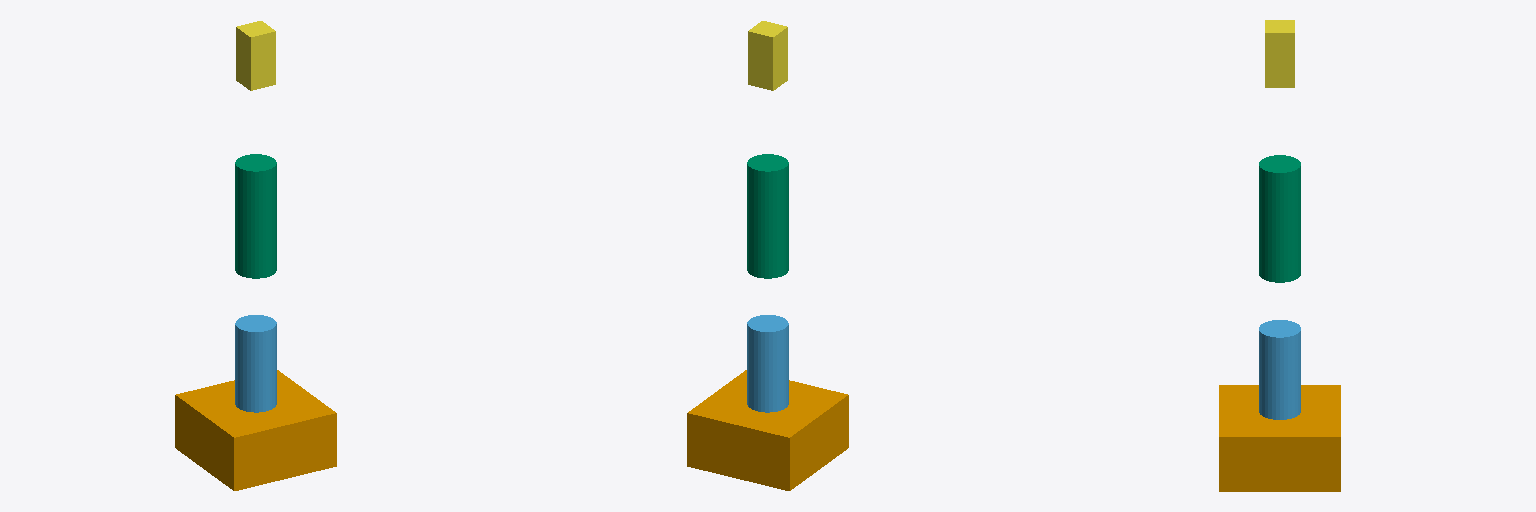
The robot description file, URDF, robot "SimpleRobotArm_ArticulatedBody":
<?xml version="1.0"?>
<robot name="SimpleRobotArm_ArticulatedBody">
    <link name="base">
        <visual >
            <origin xyz="0.0 -0.0 0.0" rpy="0.0 0.0 0.0" />
            <geometry >
                <box size="0.2 0.2 0.1" />
            </geometry>
        </visual>
        <visual >
            <origin xyz="0.0 -0.0 0.1" rpy="0.0 0.0 0.0" />
            <geometry >
                <sphere radius="0.025" />
            </geometry>
        </visual>
        <visual >
            <origin xyz="0.0 -0.0 0.4" rpy="0.0 0.0 0.0" />
            <geometry >
                <sphere radius="0.0249999985" />
            </geometry>
        </visual>
        <visual >
            <origin xyz="0.0 -0.0 0.700000048" rpy="0.0 0.0 0.0" />
            <geometry >
                <sphere radius="0.0249999985" />
            </geometry>
        </visual>
    </link>
    <link name="shoulder">
        <visual >
            <origin xyz="0.0 -0.0 0.0" rpy="0.0 0.0 0.0" />
            <geometry >
                <cylinder radius="0.035" length="0.2" />
            </geometry>
        </visual>
    </link>
    <joint name="joint.articulated_body.revolutejoint_from_shoulder" type="continuous">
        <parent link="base" />
        <child link="shoulder" />
        <origin xyz="0.0 -0.0 0.0999999642" rpy="-0.0 0.0 -0.0" />
        <axis xyz="0.0 -1.0 0.0" />
        <limit velocity="100.0" effort="3.40282347e+38" />
    </joint>
    <link name="elbow">
        <visual >
            <origin xyz="0.0 -0.0 0.0" rpy="0.0 0.0 0.0" />
            <geometry >
                <cylinder radius="0.035" length="0.2" />
            </geometry>
        </visual>
    </link>
    <joint name="joint.articulated_body.revolutejoint_from_elbow" type="continuous">
        <parent link="shoulder" />
        <child link="elbow" />
        <origin xyz="0.0 -0.0 0.3000000718" rpy="-0.0 0.0 -0.0" />
        <axis xyz="0.0 -1.0 0.0" />
        <limit velocity="100.0" effort="3.40282347e+38" />
    </joint>
    <link name="hand">
        <visual >
            <origin xyz="0.0 -0.0 0.0" rpy="0.0 0.0 0.0" />
            <geometry >
                <box size="0.05 0.05 0.1" />
            </geometry>
        </visual>
    </link>
    <joint name="joint.articulated_body.fixedjoint_from_hand" type="continuous">
        <parent link="elbow" />
        <child link="hand" />
        <origin xyz="0.0 -0.0 0.29999996399999995" rpy="-0.0 0.0 -0.0" />
        <axis xyz="0.0 -5.96046448e-08 0.99999994" />
        <limit velocity="100.0" effort="3.40282347e+38" />
    </joint>
</robot>

--- Facts derived from the render (not from the file) ---
3 views of the same robot in one strip: view 1: azimuth 30°, elevation 25°; view 2: azimuth 150°, elevation 25°; view 3: azimuth 270°, elevation 25° (orthographic).
Model SimpleRobotArm_ArticulatedBody with 4 links and 3 joints (3 continuous), rooted at base, posed all joints at 0.
Links seen in each view (by area): view 1: base, elbow, shoulder, hand; view 2: base, elbow, shoulder, hand; view 3: base, elbow, shoulder, hand.
Link boxes in pixels (box(x1,y1,x2,y2)): base: box(175, 370, 336, 490); elbow: box(235, 154, 276, 278); shoulder: box(235, 315, 276, 412); hand: box(236, 21, 275, 90); base: box(687, 370, 848, 490); elbow: box(747, 154, 788, 278); shoulder: box(747, 315, 788, 412); hand: box(748, 21, 787, 90); base: box(1219, 385, 1340, 491); elbow: box(1259, 155, 1300, 282); shoulder: box(1259, 320, 1300, 419); hand: box(1265, 20, 1294, 87).
Size in the robot's own frame: 0.2 by 0.2 by 0.8 metres.
Geometry: primitives only (box / cylinder / sphere), no mesh files.